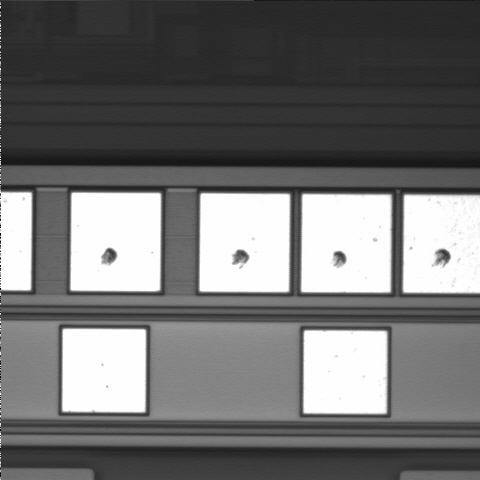pad: (200, 193, 290, 292), (71, 193, 161, 291), (301, 194, 391, 292), (62, 329, 146, 412), (304, 331, 387, 414)
